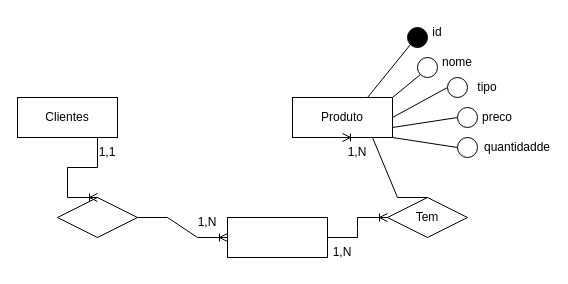
This 568x284 diagram has some shape labels left out. Here are the shapes that lost their labels. From the top down, the centre of each, then its label:
At point 97,217: "Faz".
At point 277,237: "Compras".
